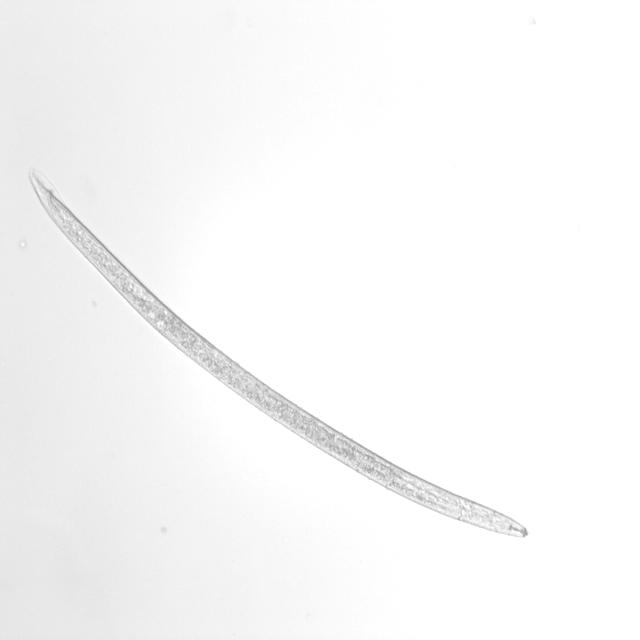Pratylenchus: (26, 163, 536, 545)
